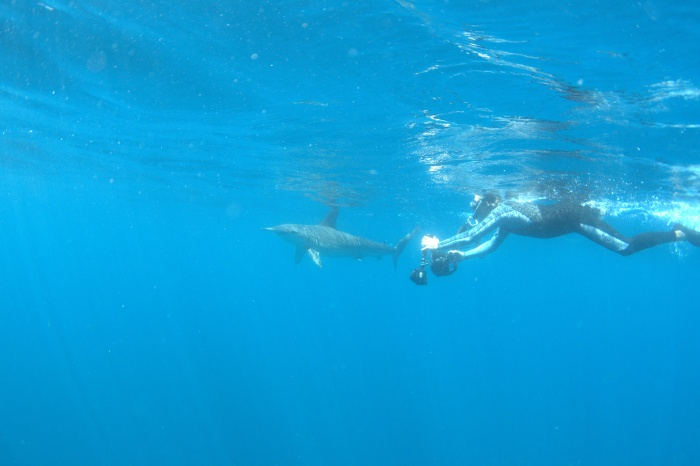Hammer: (248, 201, 422, 300)
